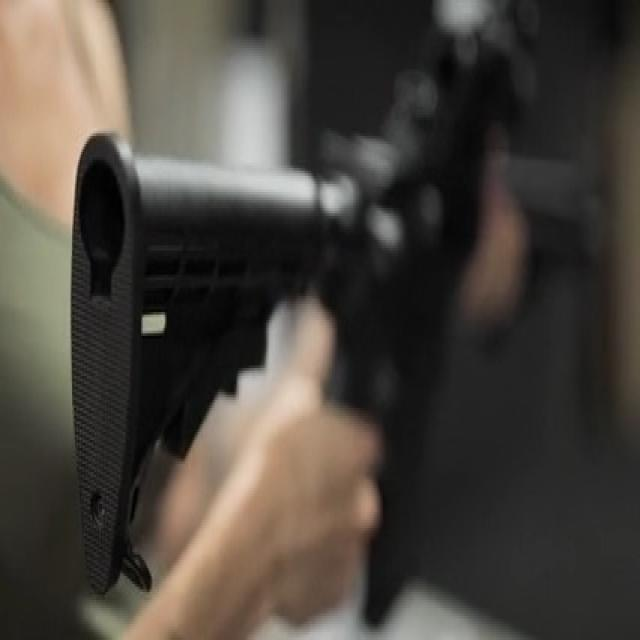Gun_Holder: (61, 2, 609, 599)
